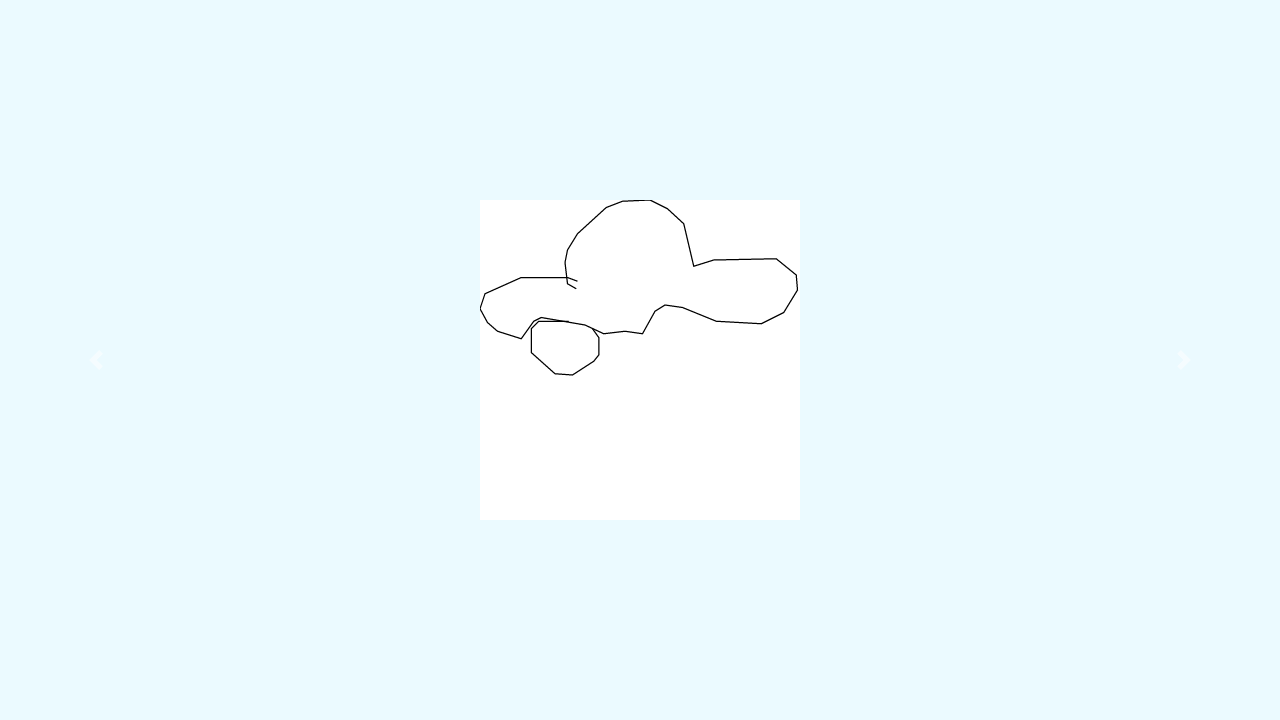car: (474, 196, 804, 380)
